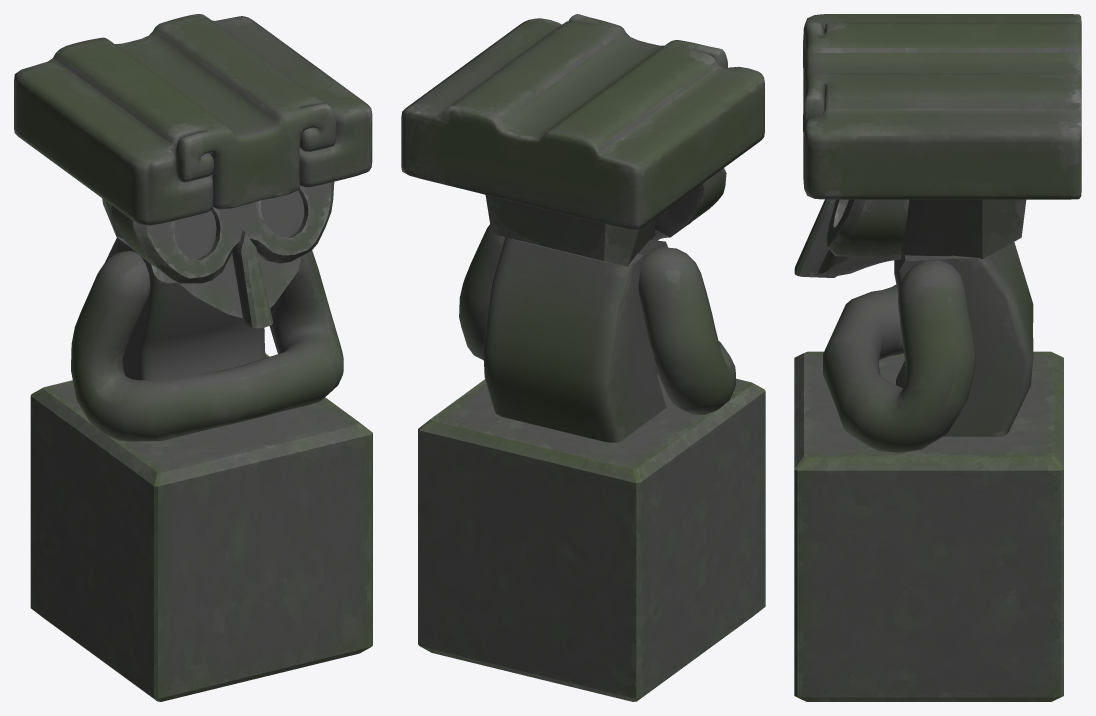
File: Pillar.fbx
The picture shows the model from 3 angles, left to right: view 1: azimuth 30°, elevation 25°; view 2: azimuth 150°, elevation 25°; view 3: azimuth 270°, elevation 25°; orthographic projection. The views are drawn at different scales.
Parts seen in each view (by area): view 1: Cube.008, Cube.002, Cube.003, Cube, Cube.001; view 2: Cube.008, Cube.002, Cube.001, Cube.003, Cube; view 3: Cube.008, Cube.002, Cube.003, Cube.001, Cube.
Part boxes in pixels (bbox=[...]): Cube.008: bbox=[30, 354, 372, 701]; Cube.002: bbox=[14, 14, 372, 225]; Cube.003: bbox=[71, 250, 343, 441]; Cube: bbox=[111, 182, 334, 328]; Cube.001: bbox=[102, 198, 266, 380]; Cube.008: bbox=[418, 375, 765, 701]; Cube.002: bbox=[401, 14, 764, 229]; Cube.001: bbox=[483, 195, 667, 442]; Cube.003: bbox=[459, 224, 735, 414]; Cube: bbox=[651, 168, 726, 240]; Cube.008: bbox=[794, 351, 1063, 701]; Cube.002: bbox=[803, 14, 1081, 199]; Cube.003: bbox=[823, 260, 975, 452]; Cube.001: bbox=[894, 199, 1033, 436]; Cube: bbox=[794, 199, 909, 277].
Bounding box in the file's own units: 112 × 233 × 103.
Materials: 2 (2 with a texture image).
